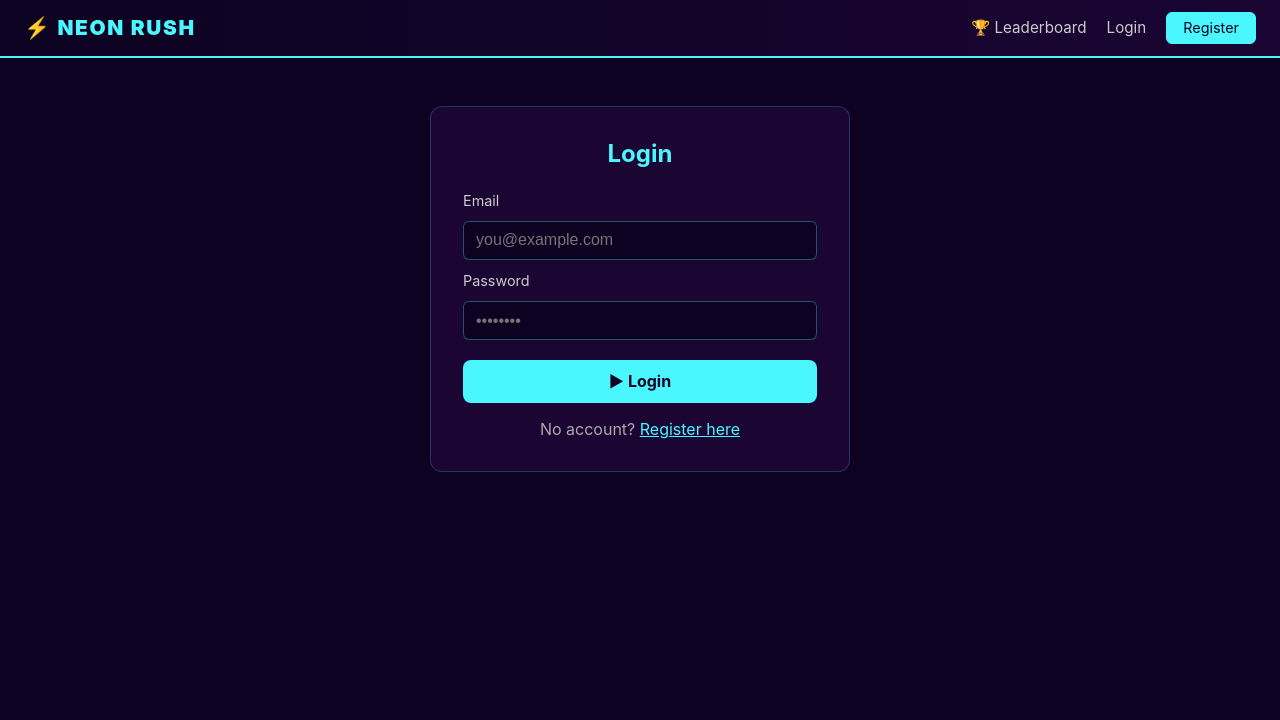
App routes › navigates to profile after successful login
Type "runner@example.com" into the field labelled "Email" at (640,240), box [463,221,817,260]
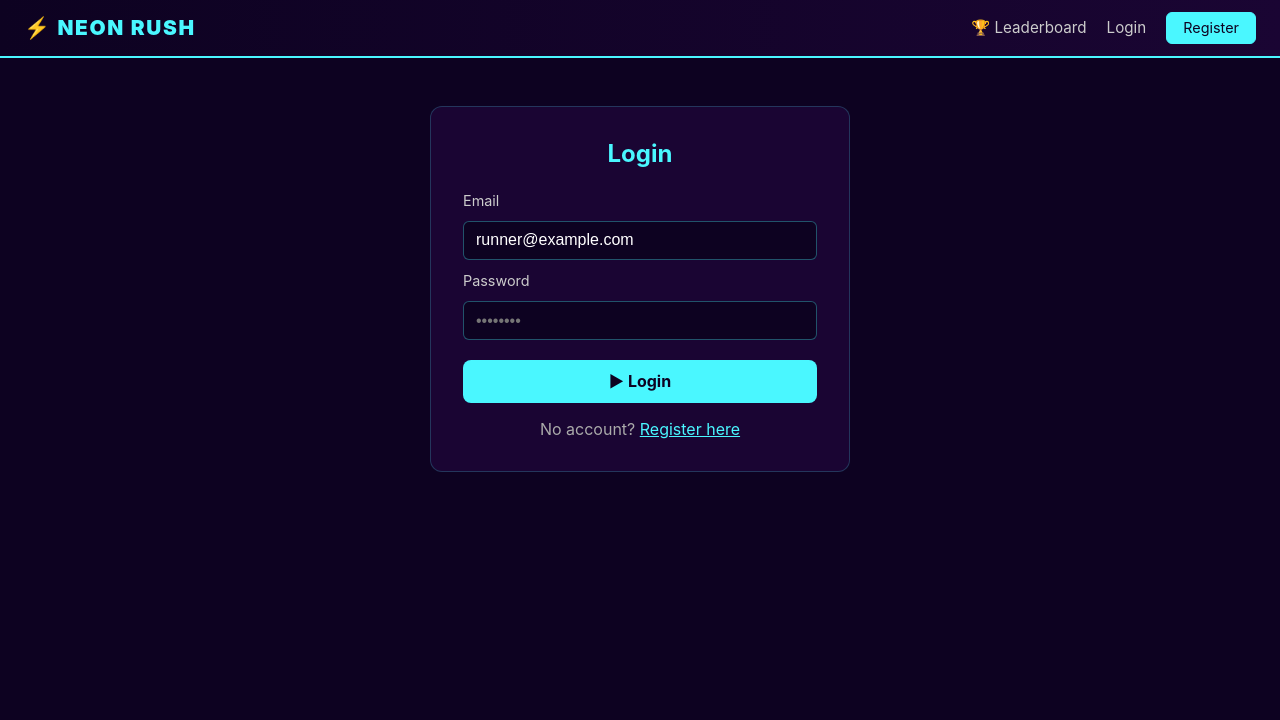
Type "Password123" into the password field labelled "Password" at (640,321), box [463,301,817,340]
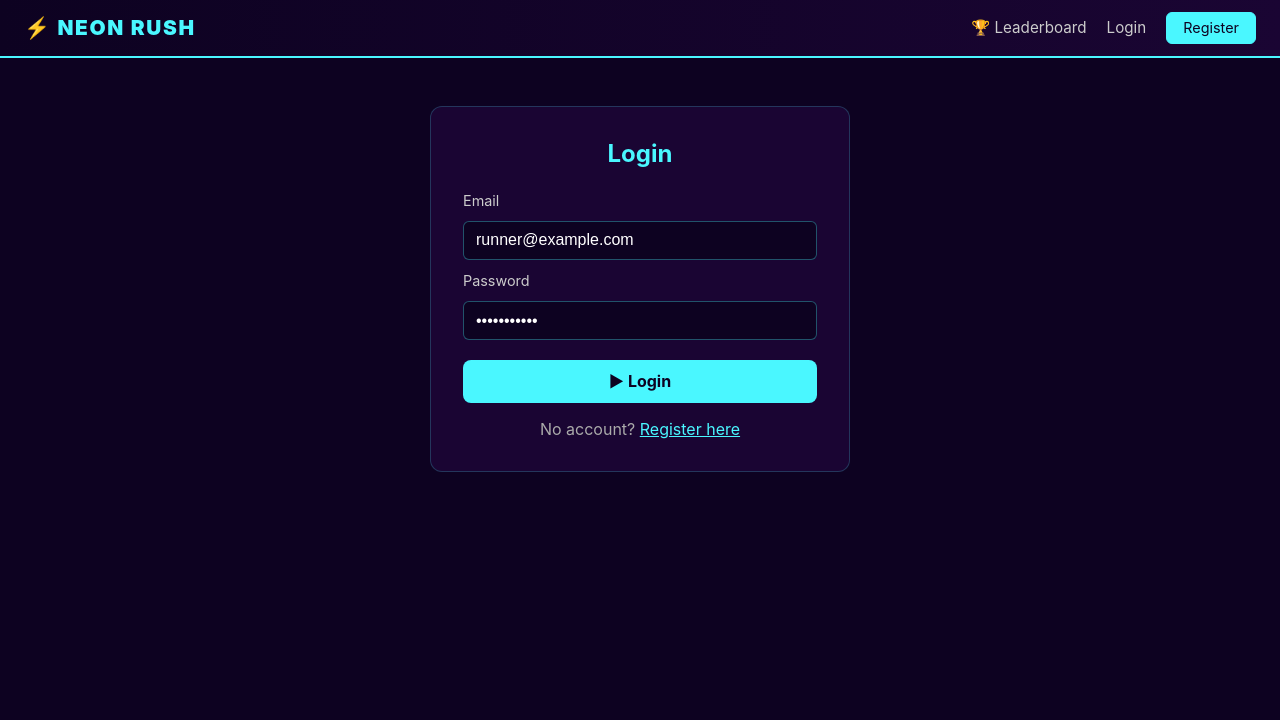
Submit the form named "Login form", box [463,192,817,403]
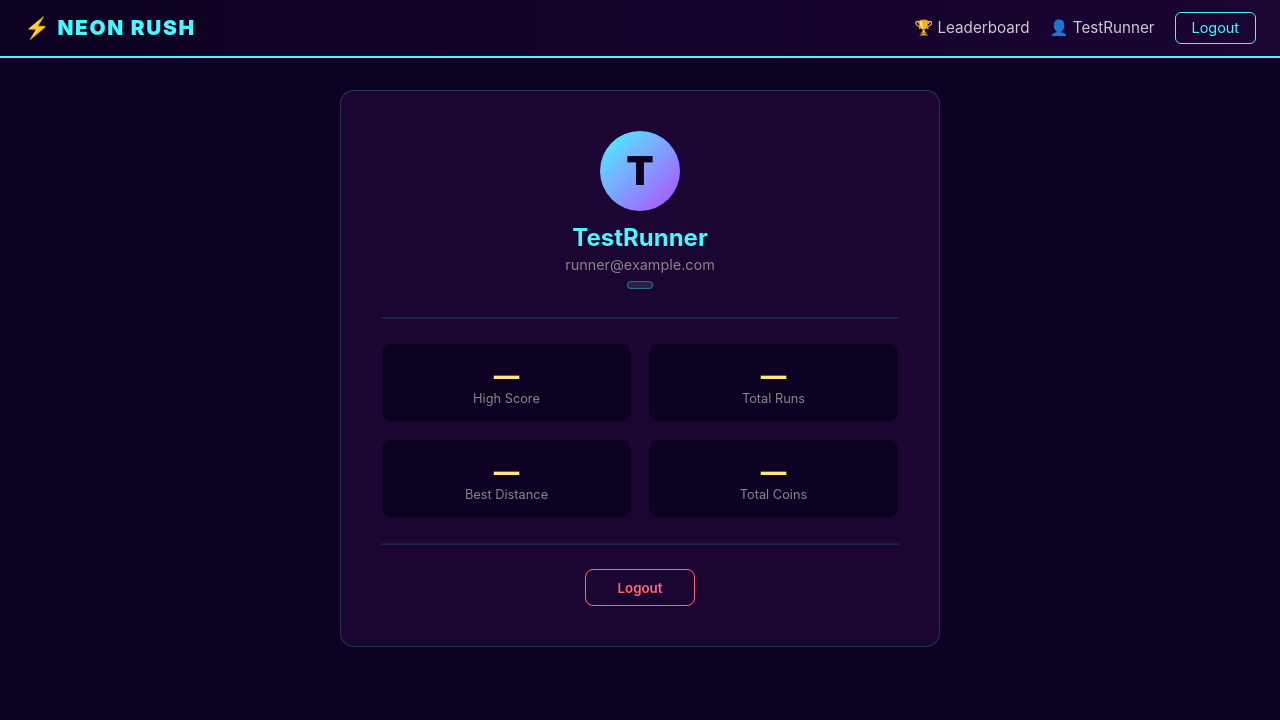
Expected: the heading "TestRunner" is shown, [572,223,708,252]
